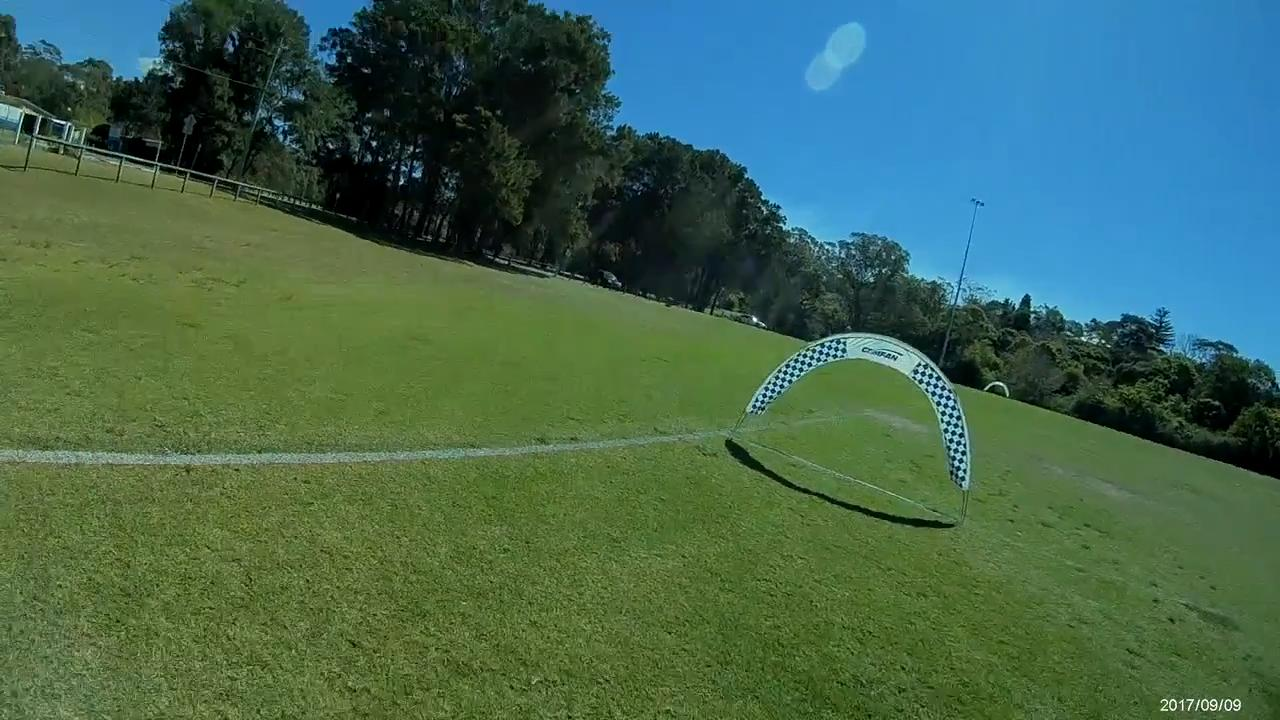gate: (746, 329, 970, 495), (986, 381, 1009, 399)
